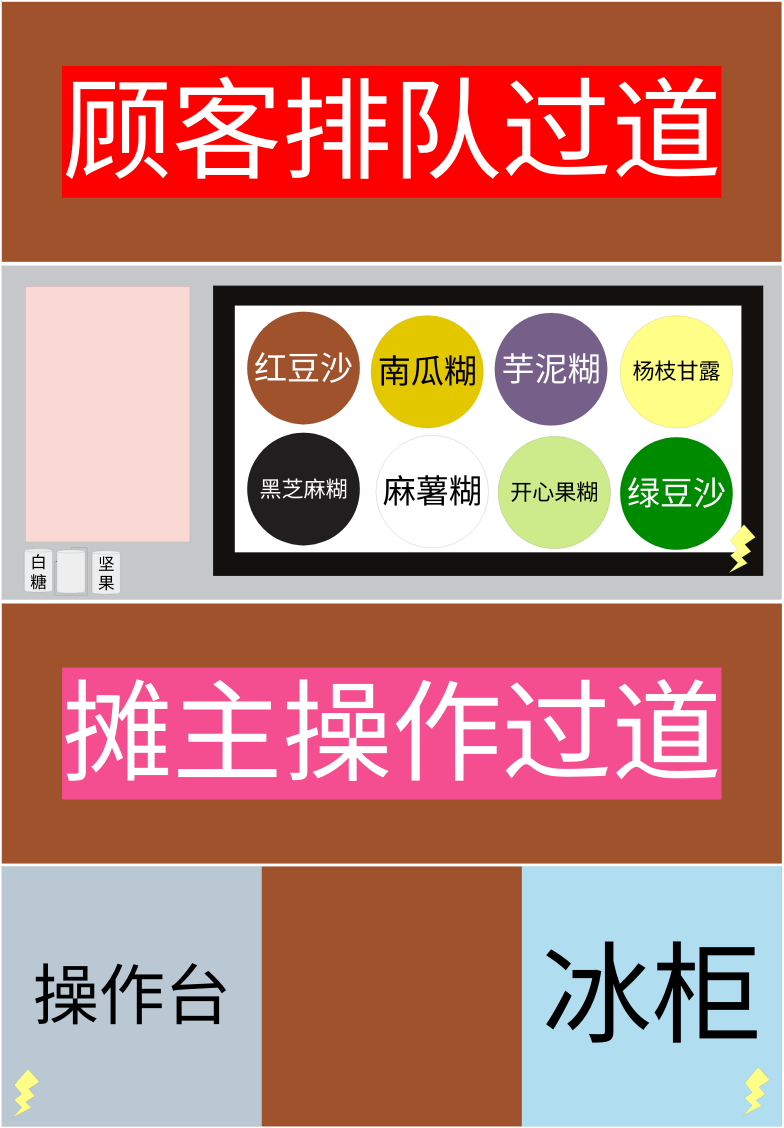
Image size: 784x1128. Some labels were removed from this diagram. The shapes that lost their labels are listed below. From the top down, each one's box as (x1, y1, x2, y2) in pixels, then its label:
(25, 286, 190, 542): 小料台
(57, 550, 85, 593): 桂花
